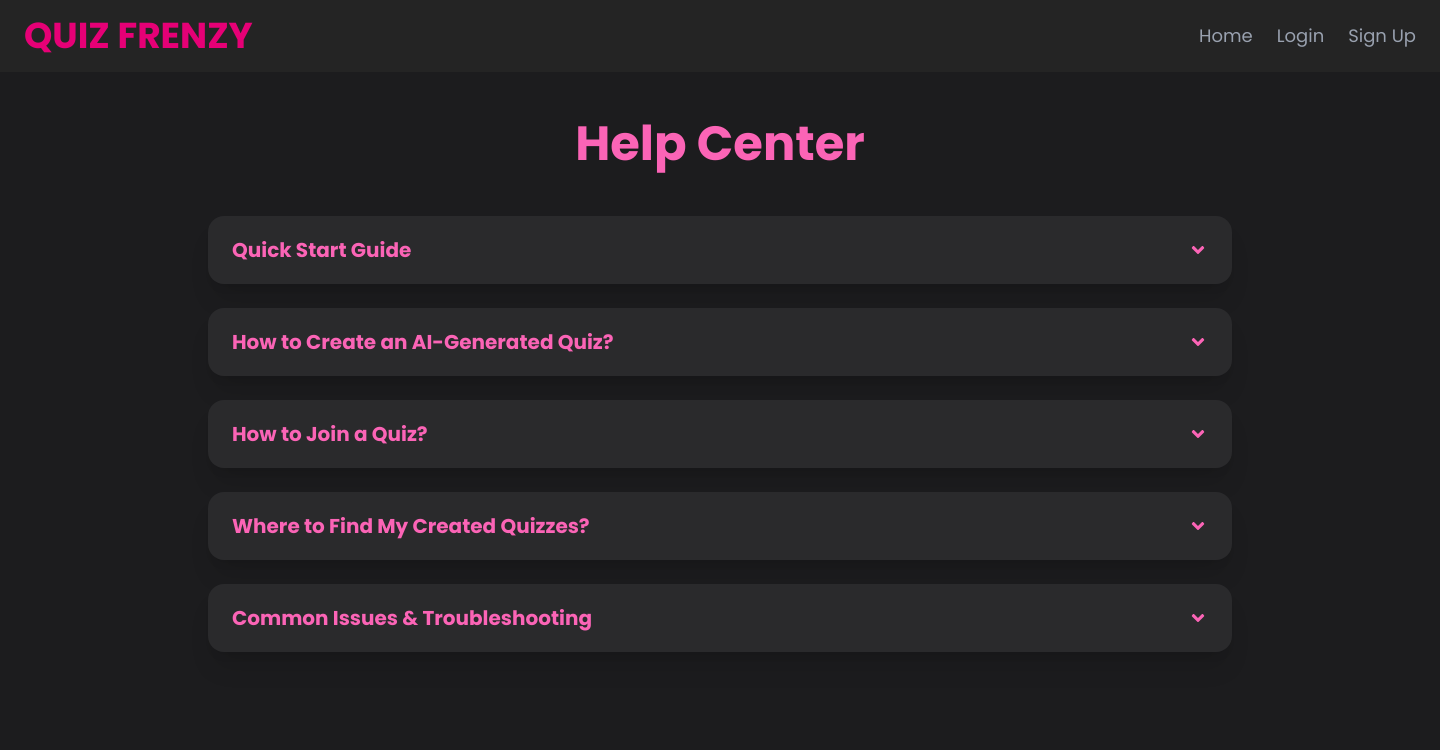
Test: <HelpCenterPage /> › expands and collapses a section when clicked
Expand section
Click the button "Quick Start Guide" at (322,250), box [208,216,1232,284]
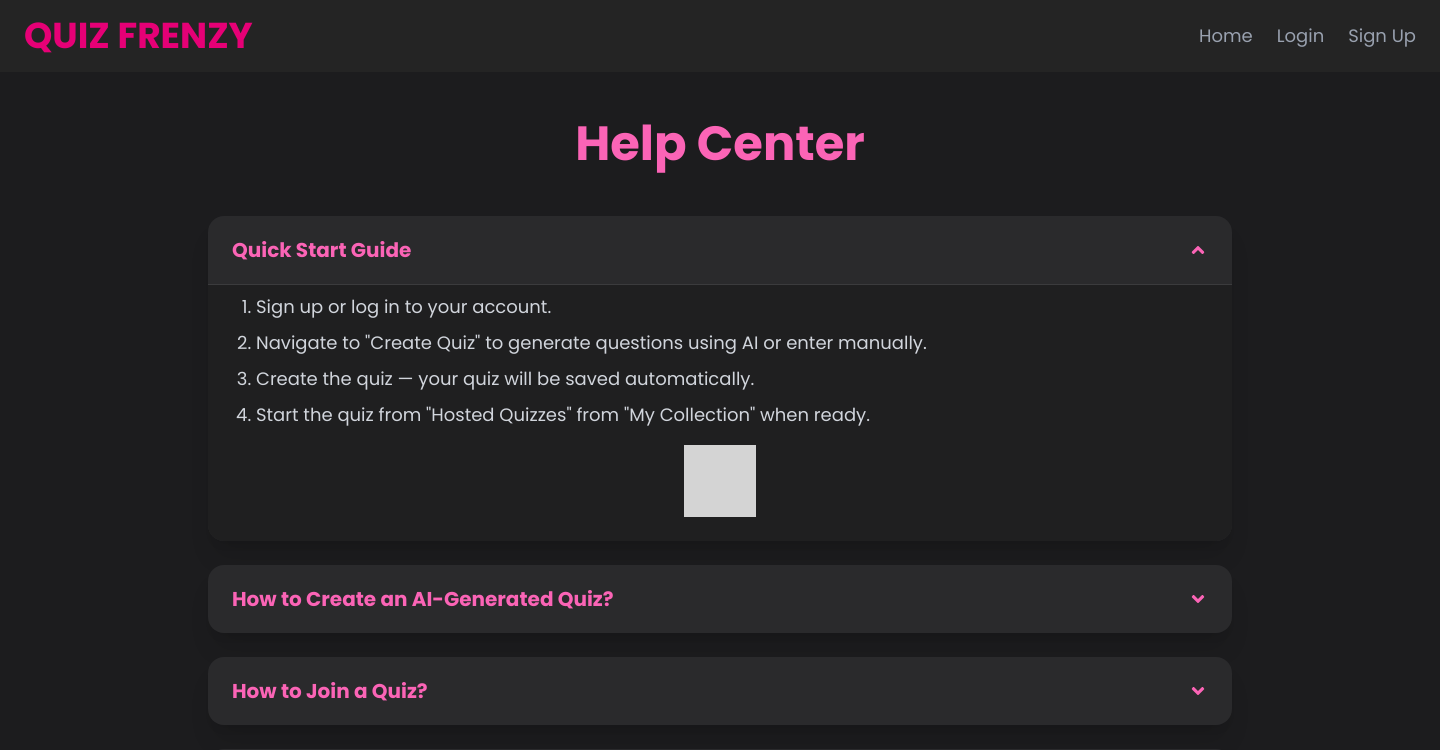
Expected: the list item "Sign up or log in to your account." is shown, [256,294,551,319]
Collapse section
Click the button "Quick Start Guide" at (322,250), box [208,216,1232,284]
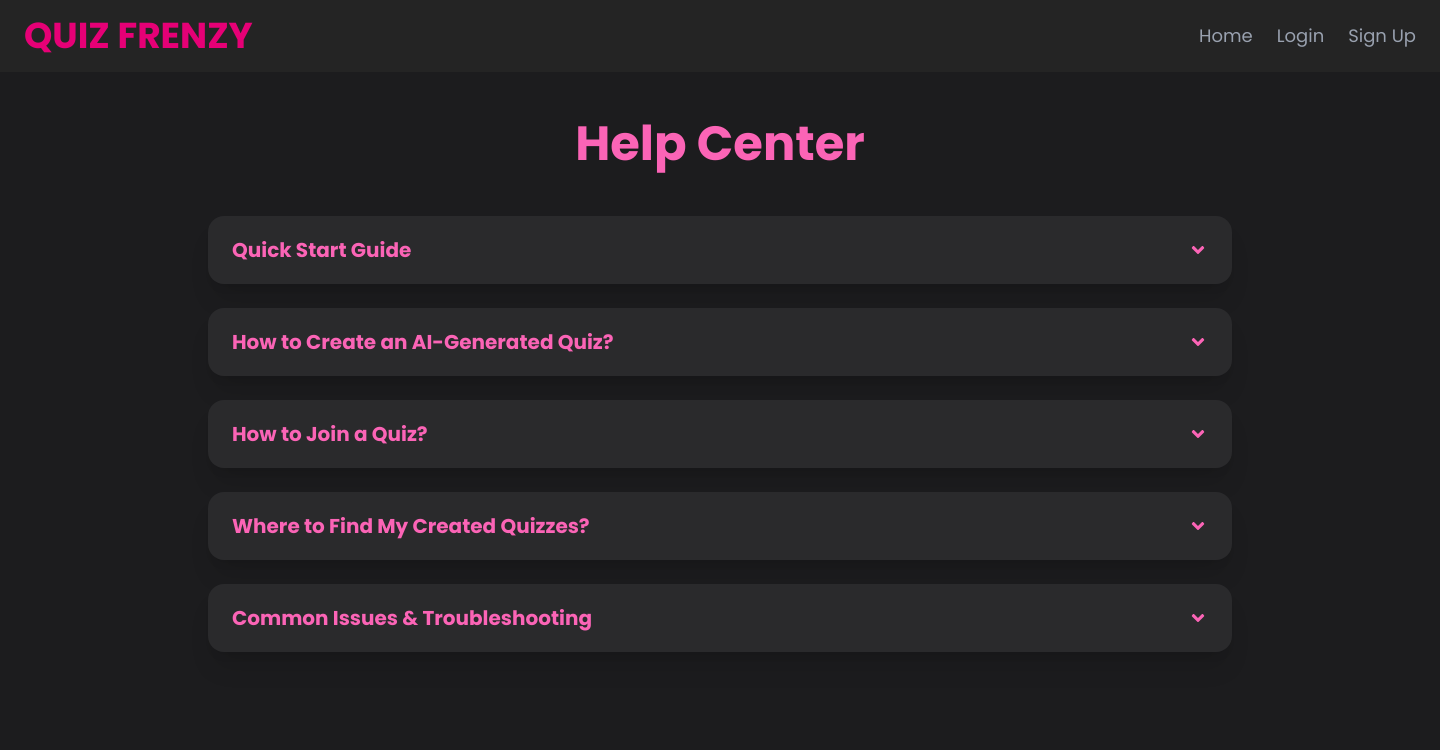
Expected: the list item "Sign up or log in to your account." is gone
